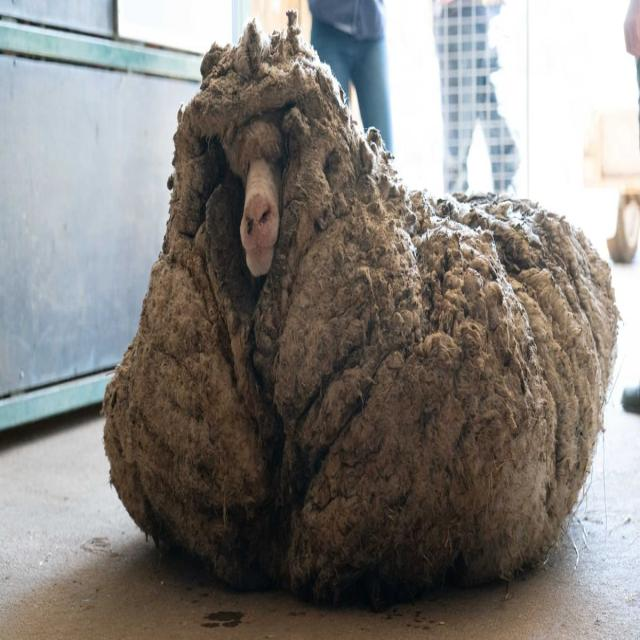Sheep: (79, 4, 620, 592)
